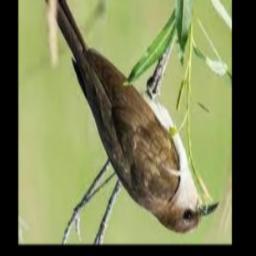Cuckoo: (27, 0, 219, 234)
